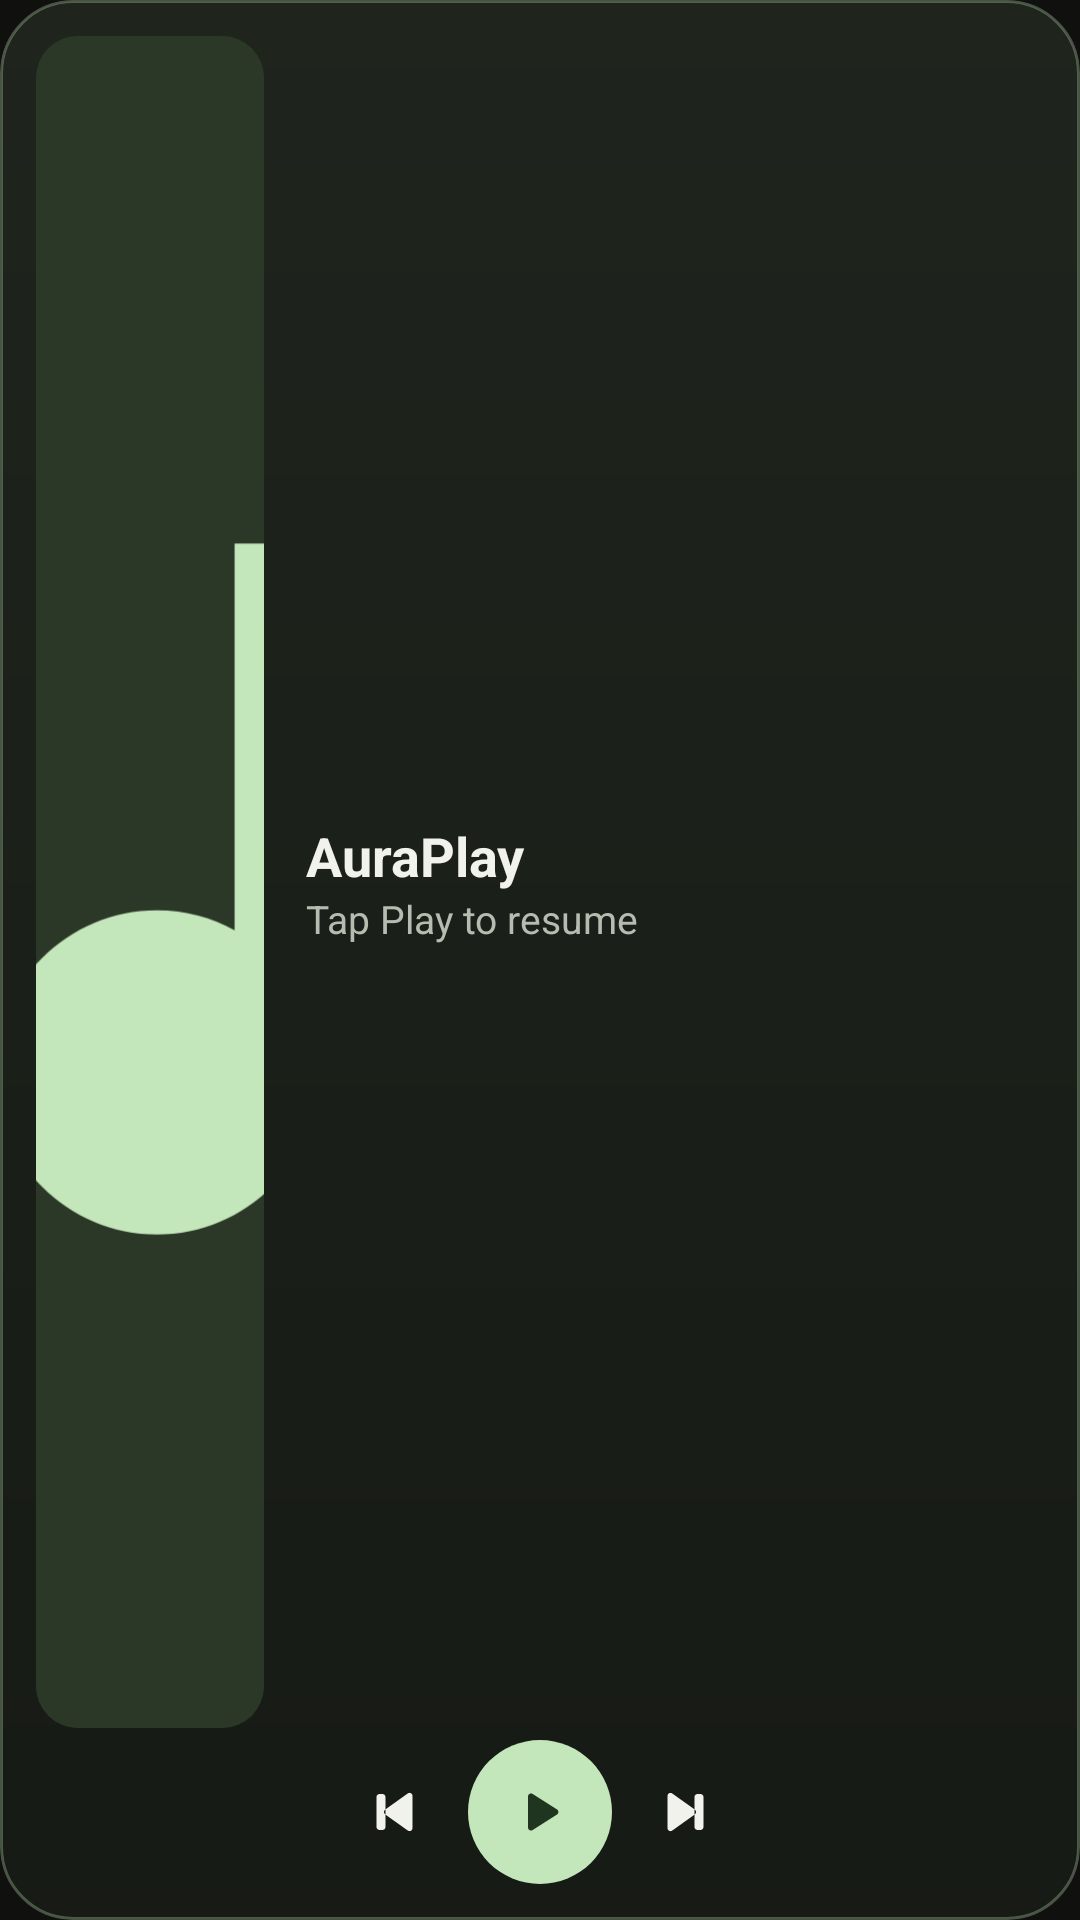

Locate icon controls on the screen. Image size 1080×1920, boxes as (left=x1, top=y1, right=x2, bottom=y2).
Next track: (left=667, top=1793, right=704, bottom=1832)
Play: (left=468, top=1740, right=612, bottom=1884)
Previous track: (left=376, top=1792, right=413, bottom=1831)
